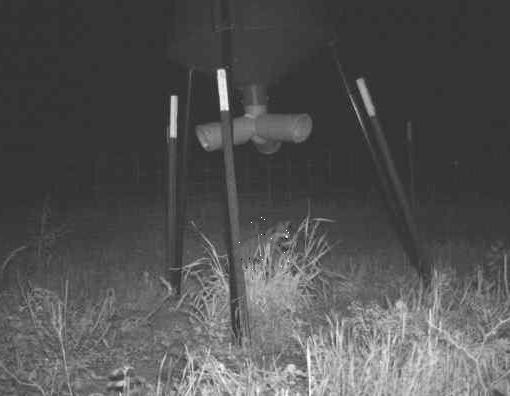Raccoon: (238, 217, 296, 271)
